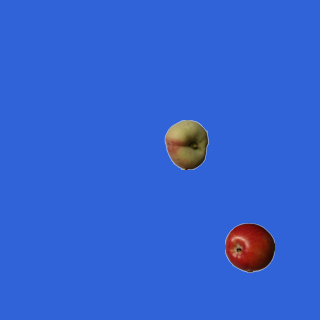Apple Braeburn: (224, 222, 274, 272)
Peach Flat: (161, 119, 211, 169)
